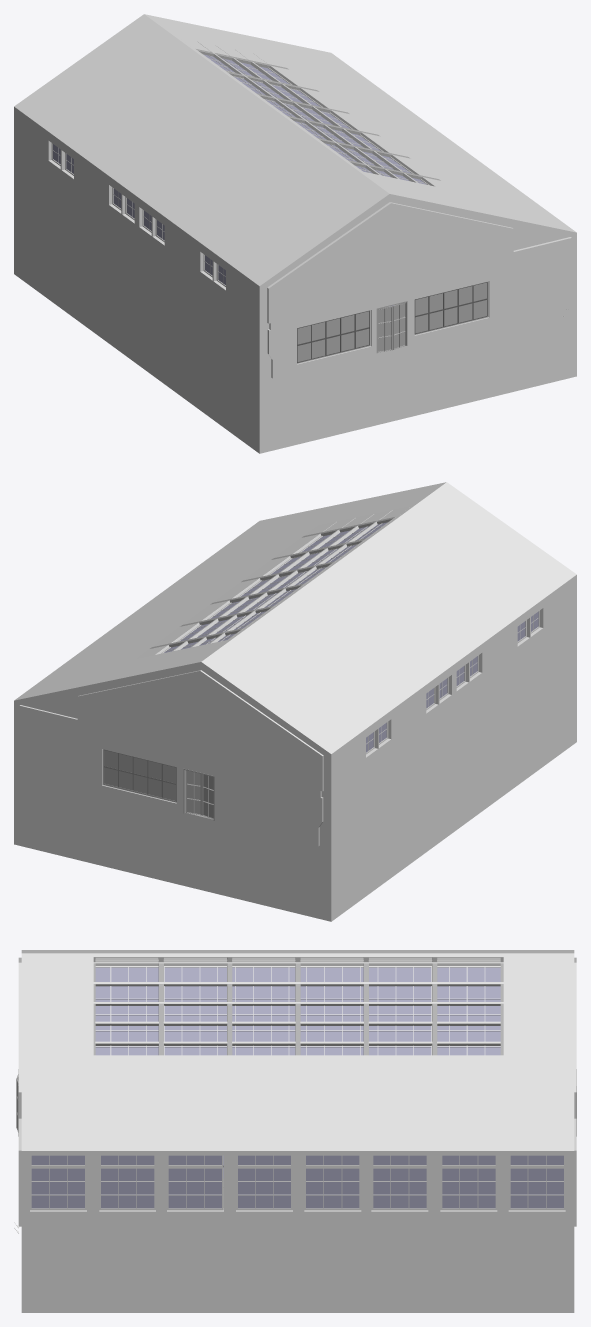
The model's file is pool.dae.
3 renders of one model, top to bottom at view 1: azimuth 30°, elevation 25°; view 2: azimuth 150°, elevation 25°; view 3: azimuth 270°, elevation 25°, orthographic. The views are drawn at different scales.
Parts seen in each view (by area): view 1: Line12, Rectangle0, Line13, FixedWind2, Box06, FixedWind1, PivotDoor1, FixedWind0; view 2: Line12, Rectangle0, Line14, Box06, FixedWind1, FixedWind2, PivotDoor0, FixedWind0; view 3: Line12, Rectangle0, FixedWind1, FixedWindo, Box06, Box01, Box07, Line13, Line14, Line06, Line04, Line05 (+2 smaller).
Part boxes in pixels (x1,y1,x2,y2): Line12: [14, 14, 576, 380]; Rectangle0: [14, 201, 576, 453]; Line13: [267, 202, 571, 378]; FixedWind2: [297, 281, 488, 363]; Box06: [180, 38, 436, 186]; FixedWind1: [203, 54, 429, 185]; PivotDoor1: [376, 301, 407, 353]; FixedWind0: [51, 143, 225, 286]; Line12: [14, 482, 576, 848]; Rectangle0: [14, 669, 576, 921]; Line14: [19, 670, 323, 846]; Box06: [153, 506, 410, 655]; FixedWind1: [161, 522, 387, 653]; FixedWind2: [102, 749, 176, 802]; PivotDoor0: [183, 769, 214, 820]; FixedWind0: [366, 610, 539, 754]; Line12: [18, 950, 574, 1230]; Rectangle0: [21, 1155, 574, 1312]; FixedWind1: [95, 966, 500, 1055]; FixedWindo: [30, 1155, 565, 1210]; Box06: [93, 982, 503, 1045]; Box01: [93, 962, 503, 965]; Box07: [95, 958, 500, 961]; Line13: [18, 957, 21, 1226]; Line14: [574, 957, 576, 1226]; Line06: [295, 957, 300, 1055]; Line04: [158, 957, 163, 1055]; Line05: [227, 957, 232, 1055].
Size of the model in its own units: 58.94 by 80.51 by 40.51.
